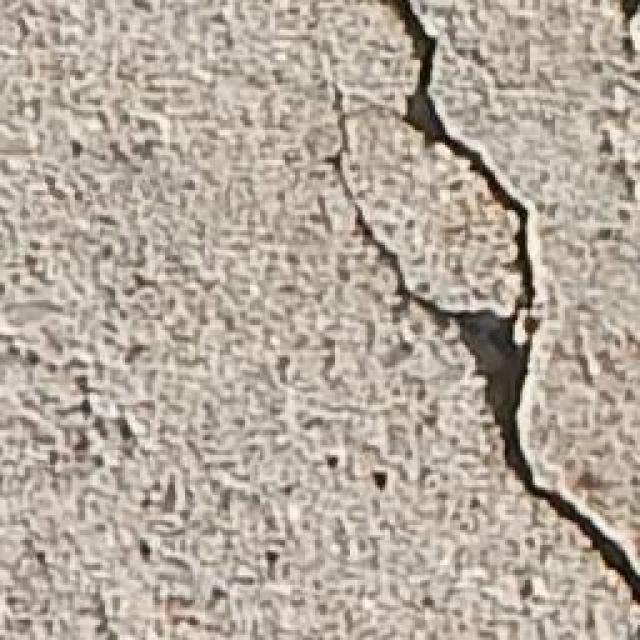concrete-crack: (315, 0, 640, 613)
